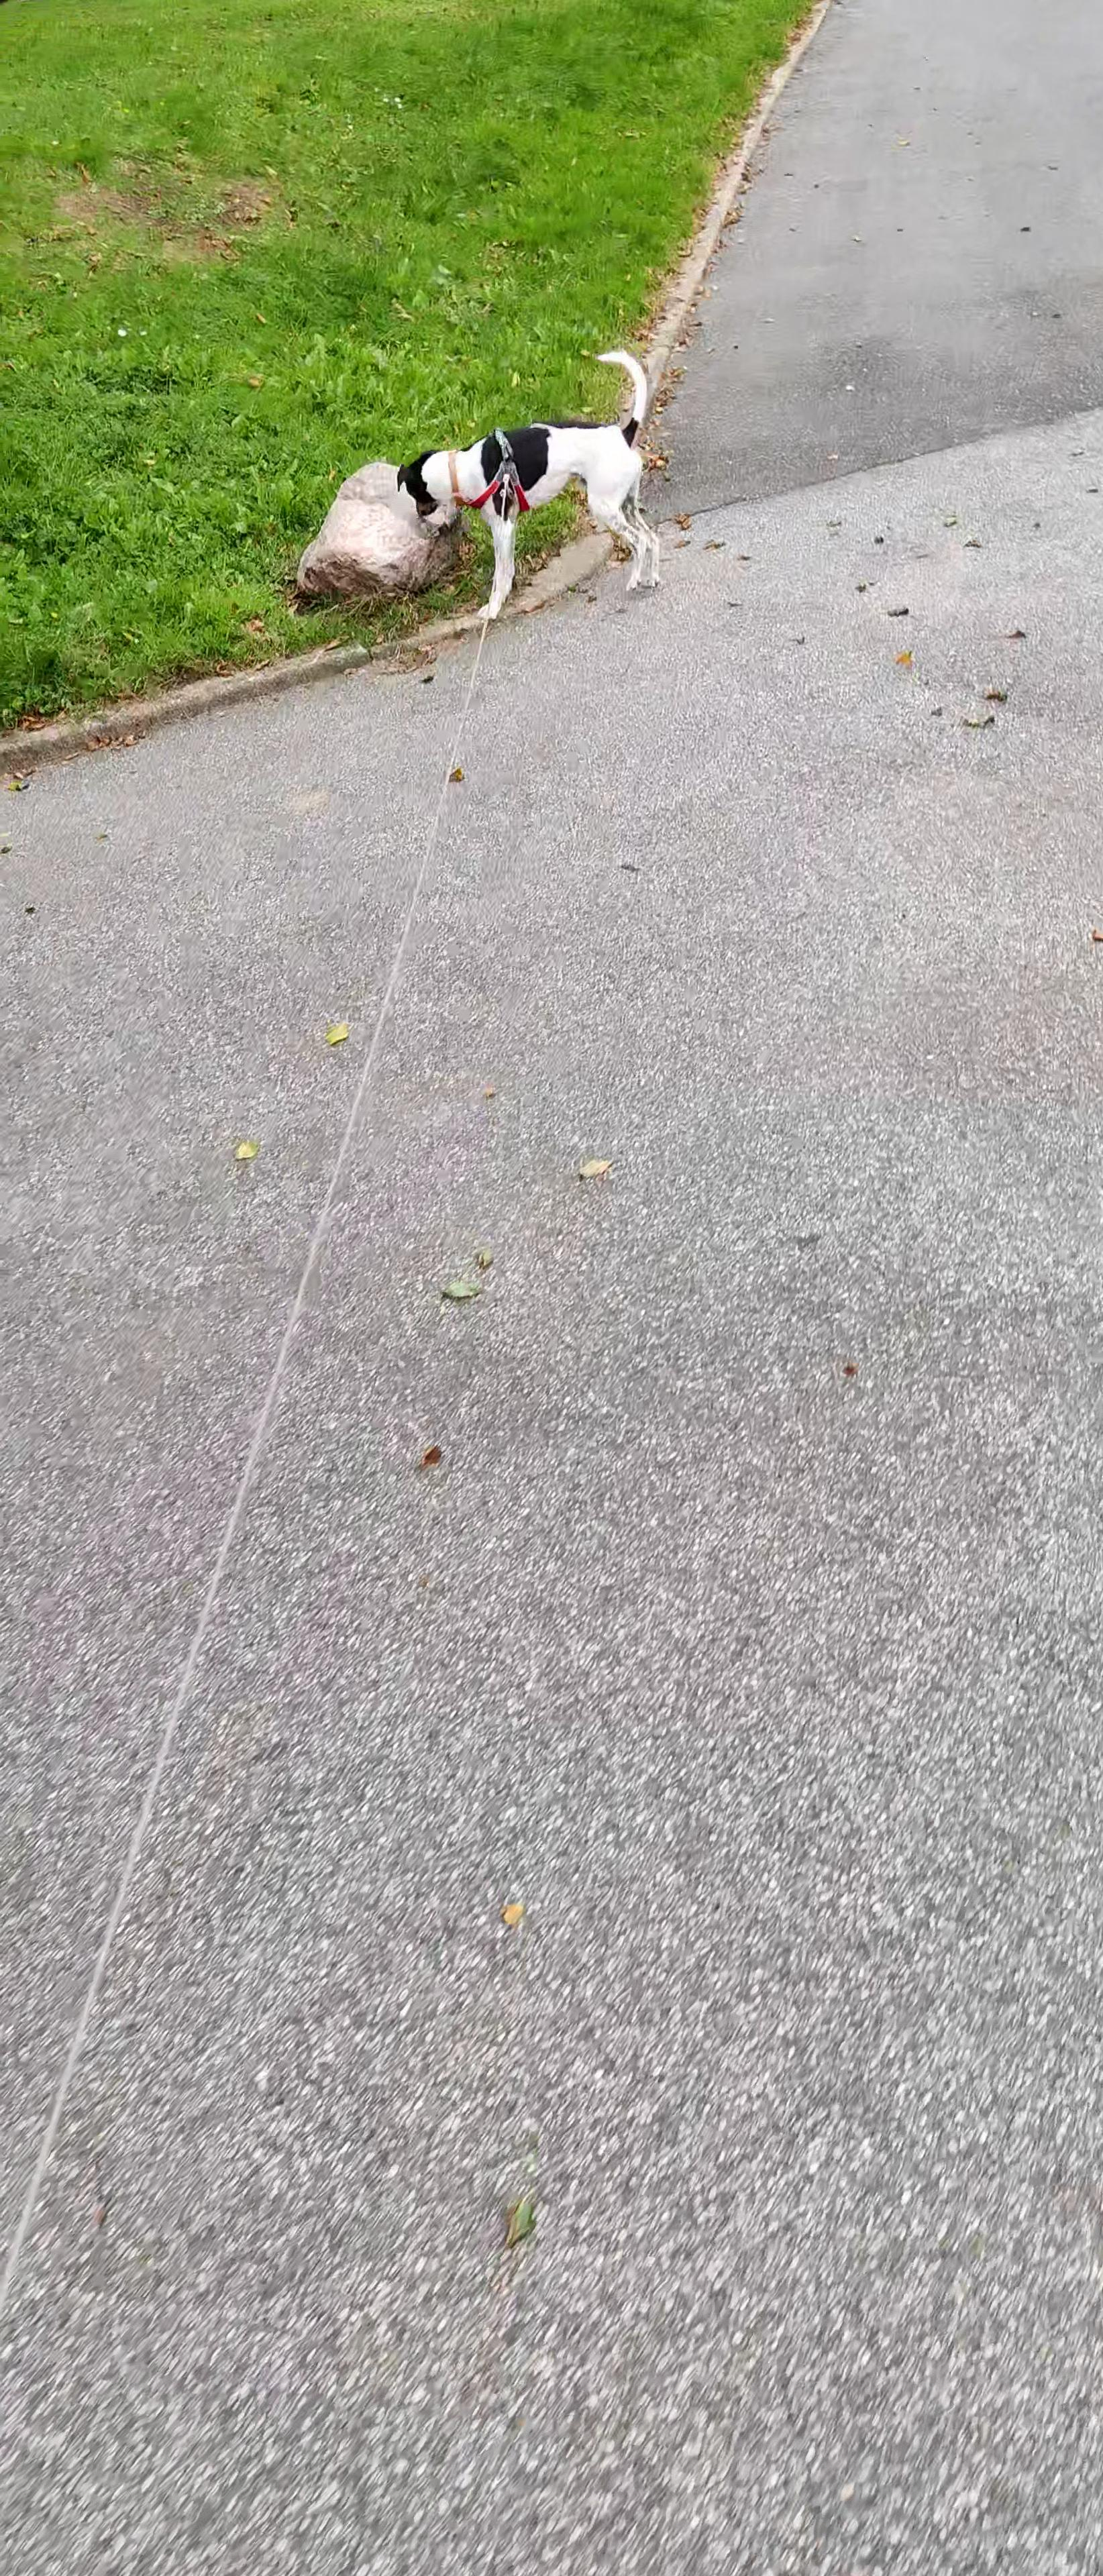Dog: (391, 343, 667, 623)
